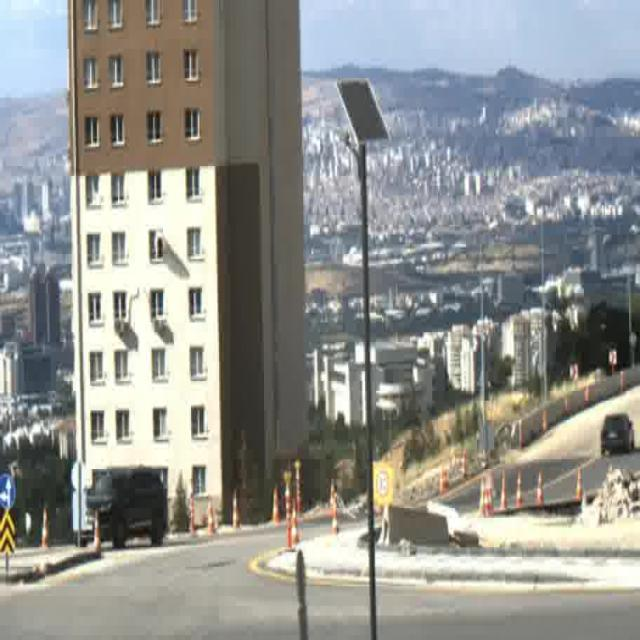Car: (80, 467, 167, 541), (600, 412, 633, 456)
